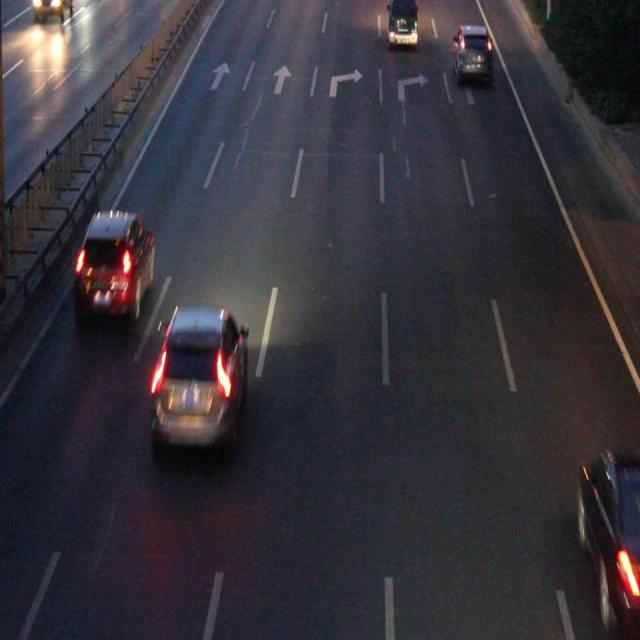car: (149, 308, 247, 445), (579, 448, 640, 607), (75, 213, 154, 316), (451, 28, 490, 83), (387, 1, 417, 45)
